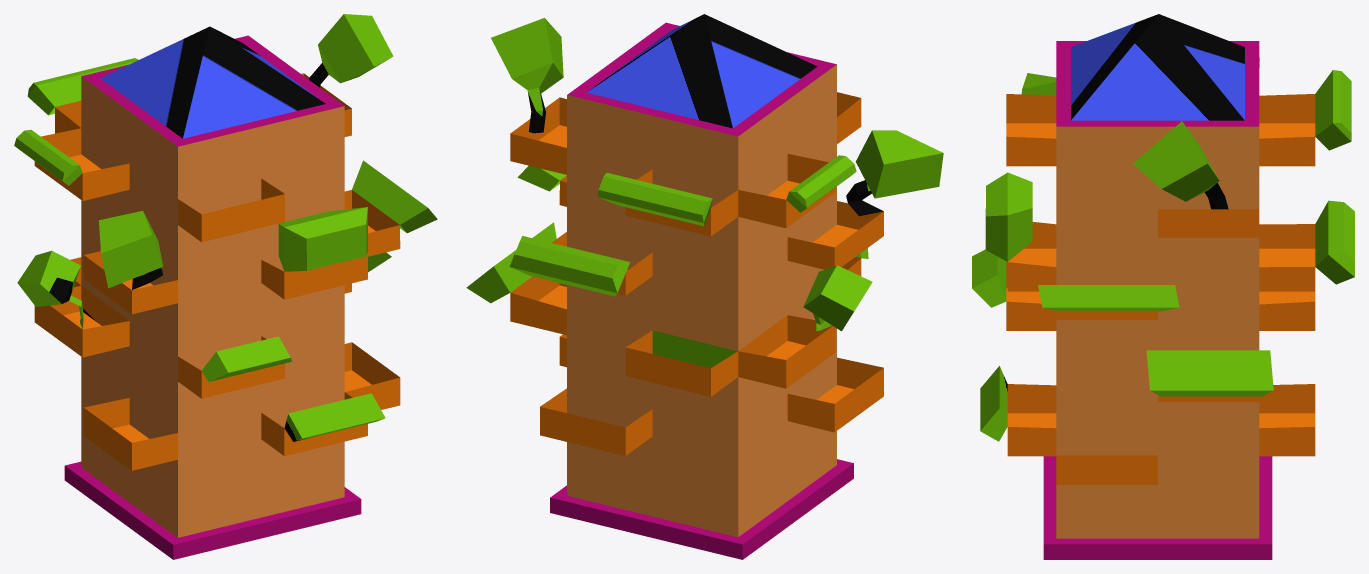
Rendered from building low poly.fbx.
3 views of the same model, side by side, from view 1: azimuth 30°, elevation 25°; view 2: azimuth 150°, elevation 25°; view 3: azimuth 270°, elevation 25° (orthographic). The views are drawn at different scales.
Visible parts, largest first — view 1: Plane.001; view 2: Plane.001; view 3: Plane.001.
Part boxes in pixels (x1,y1,x2,y2): Plane.001: (14, 14, 437, 559); Plane.001: (466, 14, 943, 559); Plane.001: (972, 14, 1354, 559).
Bounding box in the file's own units: 379 × 479 × 335.
1 material, 1 textured.
